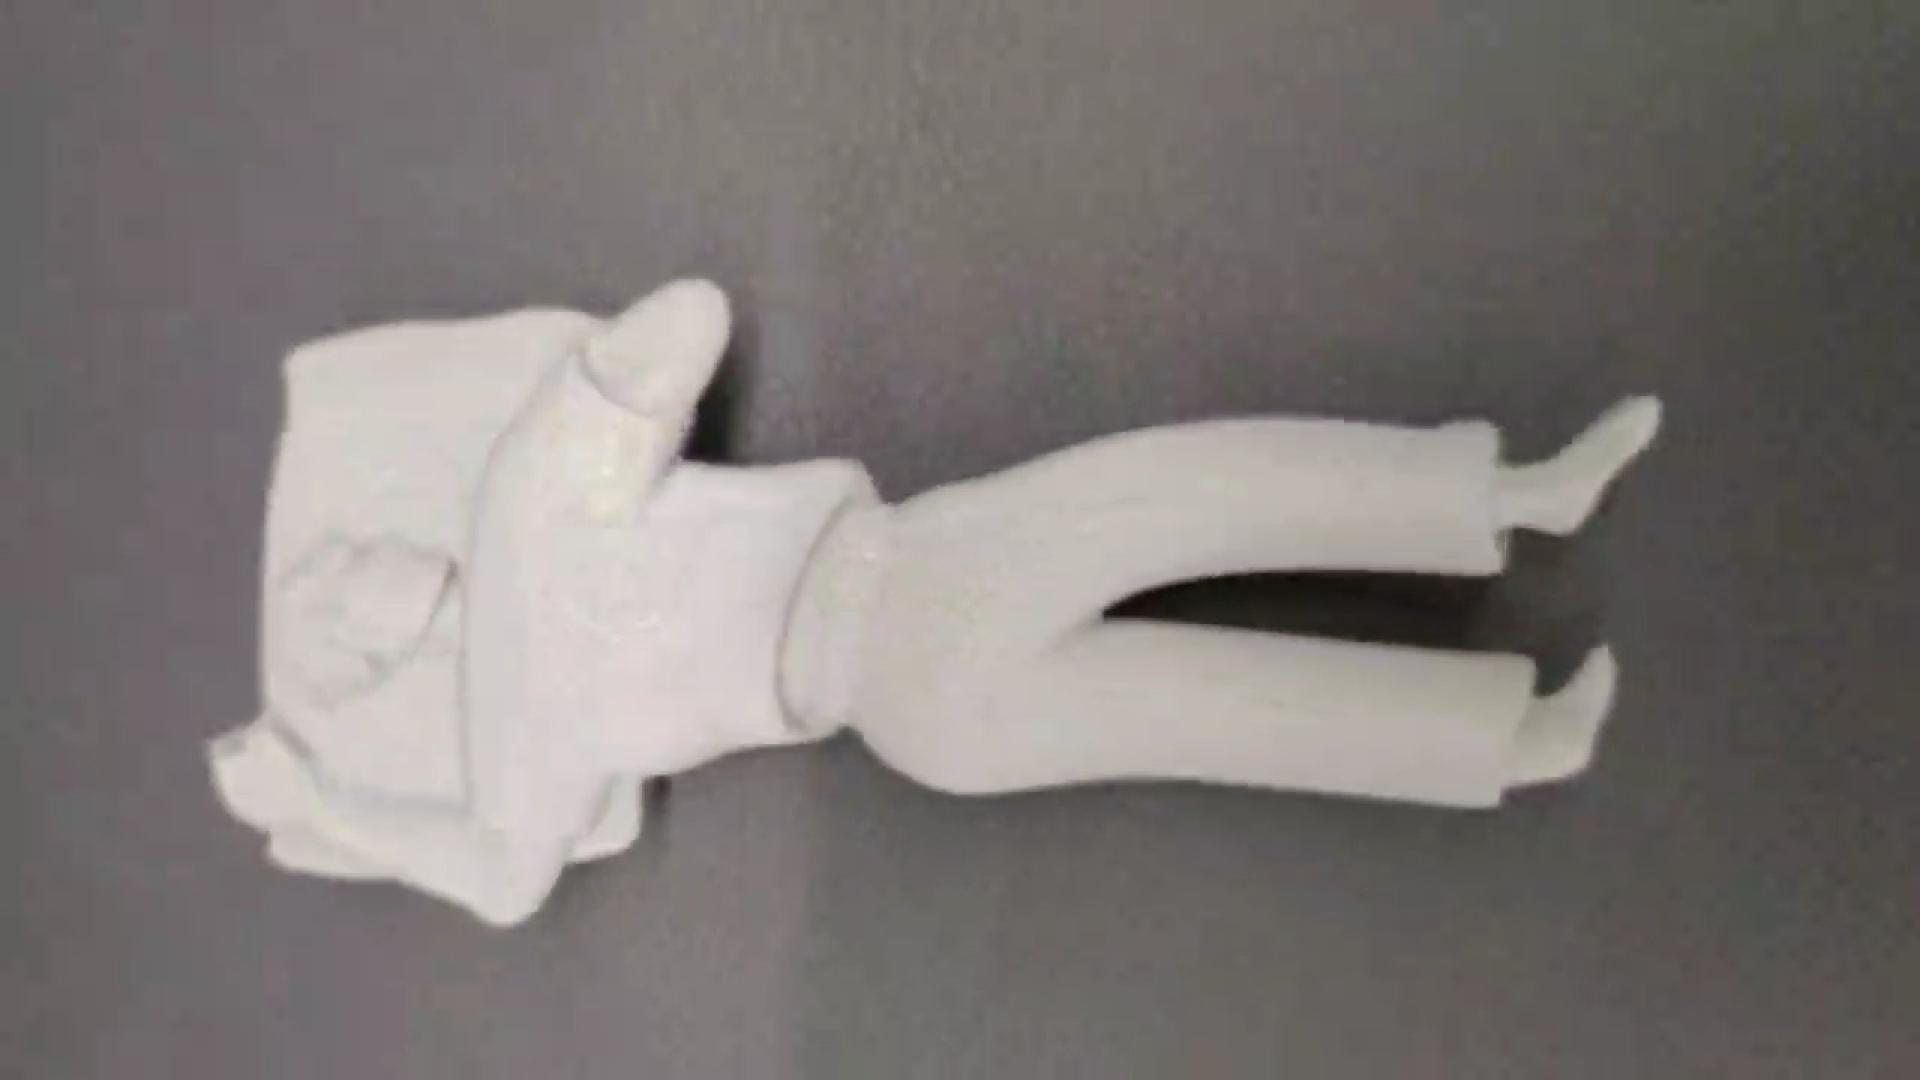Bad-style: (198, 273, 1667, 922)
